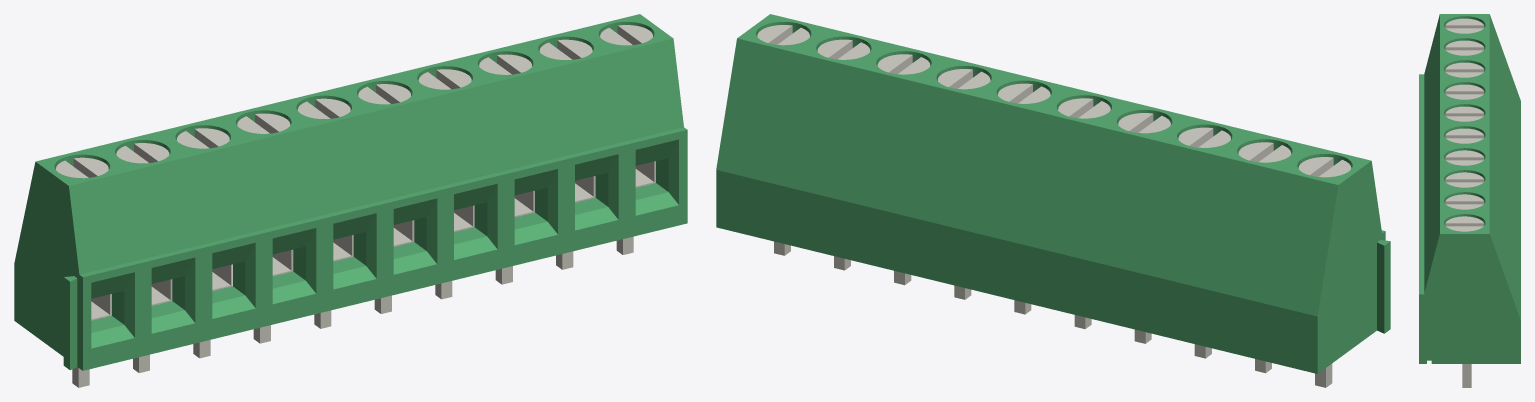
File: kc-terminalblock_phoenix_mkds-1_5-10_1x10_p5.00mm_horizontal.glb
The picture shows the model from 3 angles, left to right: view 1: azimuth 30°, elevation 25°; view 2: azimuth 150°, elevation 25°; view 3: azimuth 270°, elevation 25°; orthographic projection. The views are drawn at different scales.
Parts seen in each view (by area): view 1: 0.08333333333333333_0.4166666666666667_0.16666666666666666_0, 0.6666666666666666_0.6666666666666666_0.5833333333333334_0.8; view 2: 0.08333333333333333_0.4166666666666667_0.16666666666666666_0, 0.6666666666666666_0.6666666666666666_0.5833333333333334_0.8; view 3: 0.08333333333333333_0.4166666666666667_0.16666666666666666_0, 0.6666666666666666_0.6666666666666666_0.5833333333333334_0.8.
Boxes of the visible parts, <box> form: 0.08333333333333333_0.4166666666666667_0.16666666666666666_0: <box>14,14,687,370</box>; 0.6666666666666666_0.6666666666666666_0.5833333333333334_0.8: <box>56,25,655,387</box>; 0.08333333333333333_0.4166666666666667_0.16666666666666666_0: <box>716,14,1390,373</box>; 0.6666666666666666_0.6666666666666666_0.5833333333333334_0.8: <box>757,25,1351,387</box>; 0.08333333333333333_0.4166666666666667_0.16666666666666666_0: <box>1419,14,1520,363</box>; 0.6666666666666666_0.6666666666666666_0.5833333333333334_0.8: <box>1445,18,1484,387</box>.
Size of the model in its own units: 5.07 by 1.73 by 0.9799.
